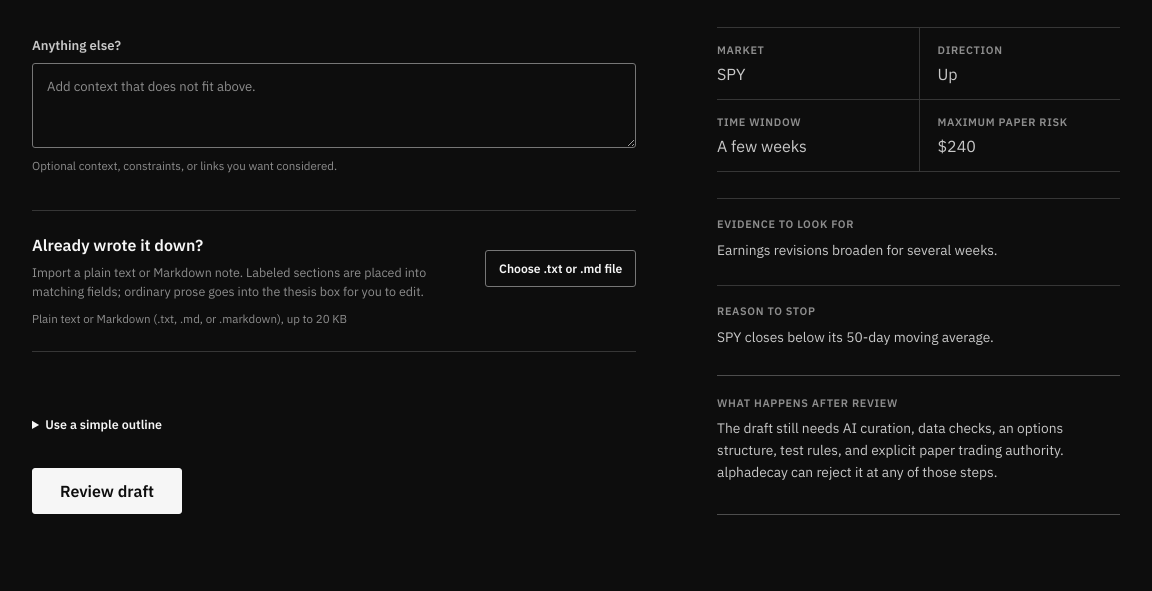
Test: ConnectedStrategyIntake › renders the verified review state, constraints, checks, and promotion work
(page scrolled)
Click the button "Review draft": (107, 491) 32,468 -> 182,514
(page scrolled)
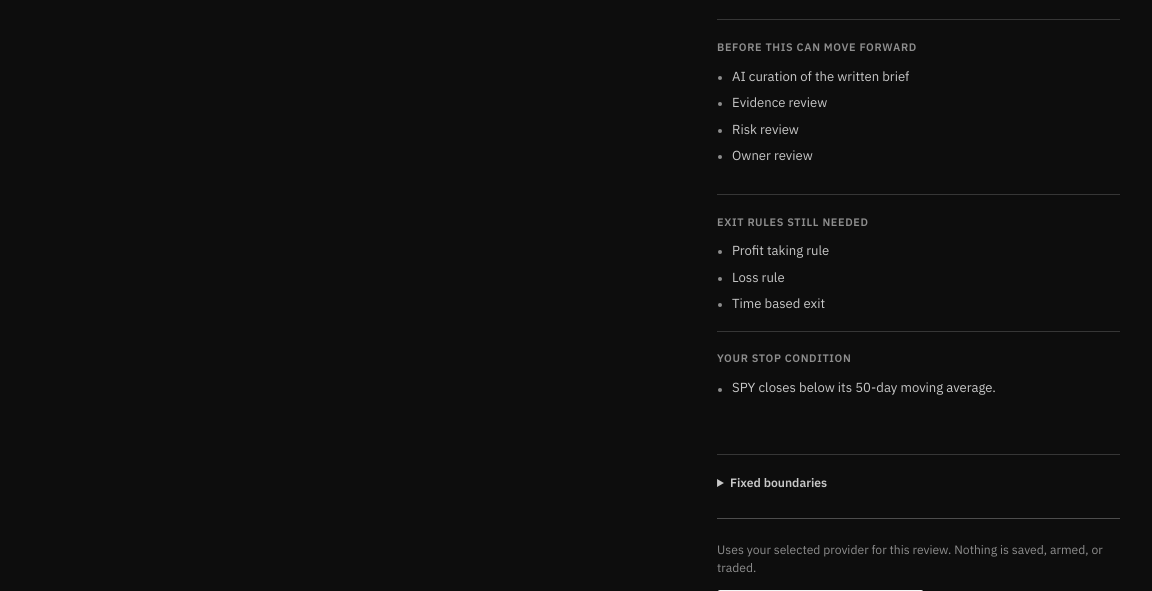
Now the list item "AI curation of the written brief" is shown, box 732,68 -> 909,85
Now the list item "Owner review" is shown, box 732,147 -> 813,164
Now the list item "Profit taking rule" is shown, box 732,242 -> 829,259
